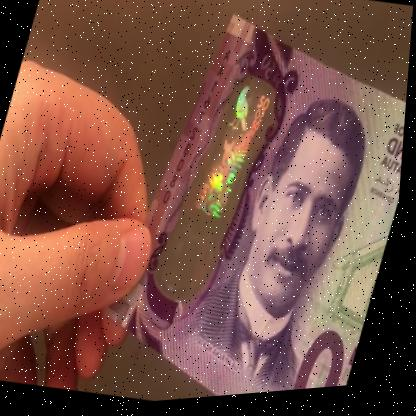50F: (171, 80, 281, 309)
